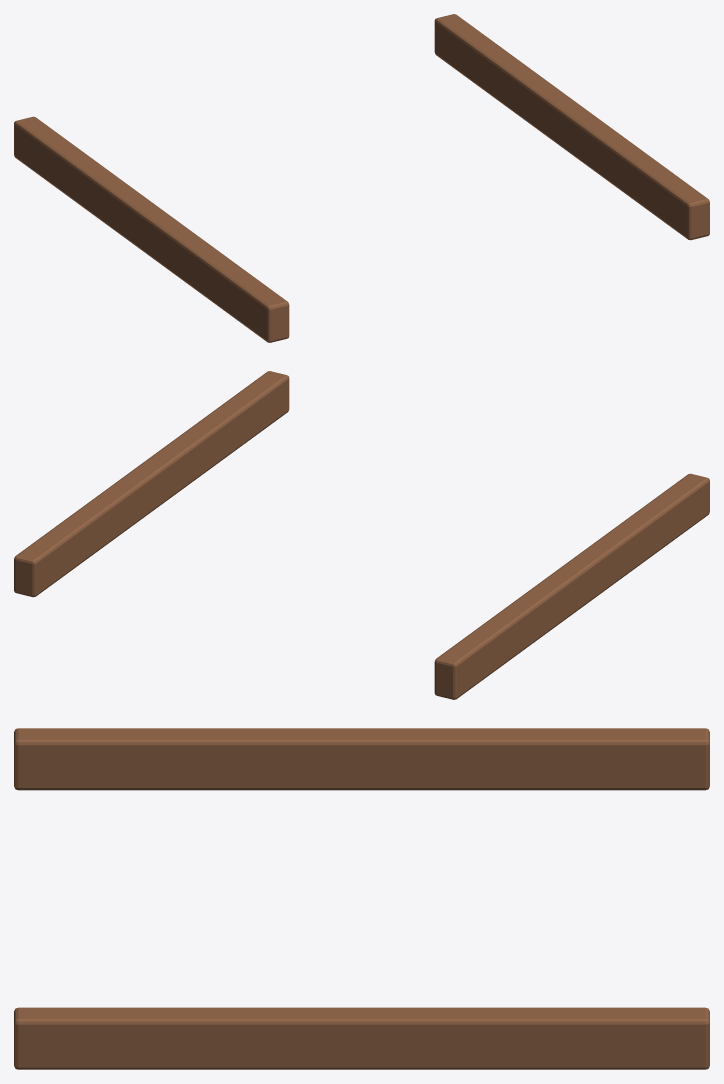
File: floor_opening_2m.glb
The picture shows the model from 3 angles, top to bottom: view 1: azimuth 30°, elevation 25°; view 2: azimuth 150°, elevation 25°; view 3: azimuth 270°, elevation 25°; orthographic projection. The views are drawn at different scales.
Parts seen in each view (by area): view 1: floor_opening_2m; view 2: floor_opening_2m; view 3: floor_opening_2m.
Part boxes in pixels (x1,y1,x2,y2): floor_opening_2m: [14, 14, 709, 342]; floor_opening_2m: [14, 371, 709, 699]; floor_opening_2m: [14, 728, 709, 1069].
Size of the model in its own units: 2 by 0.16 by 2.
